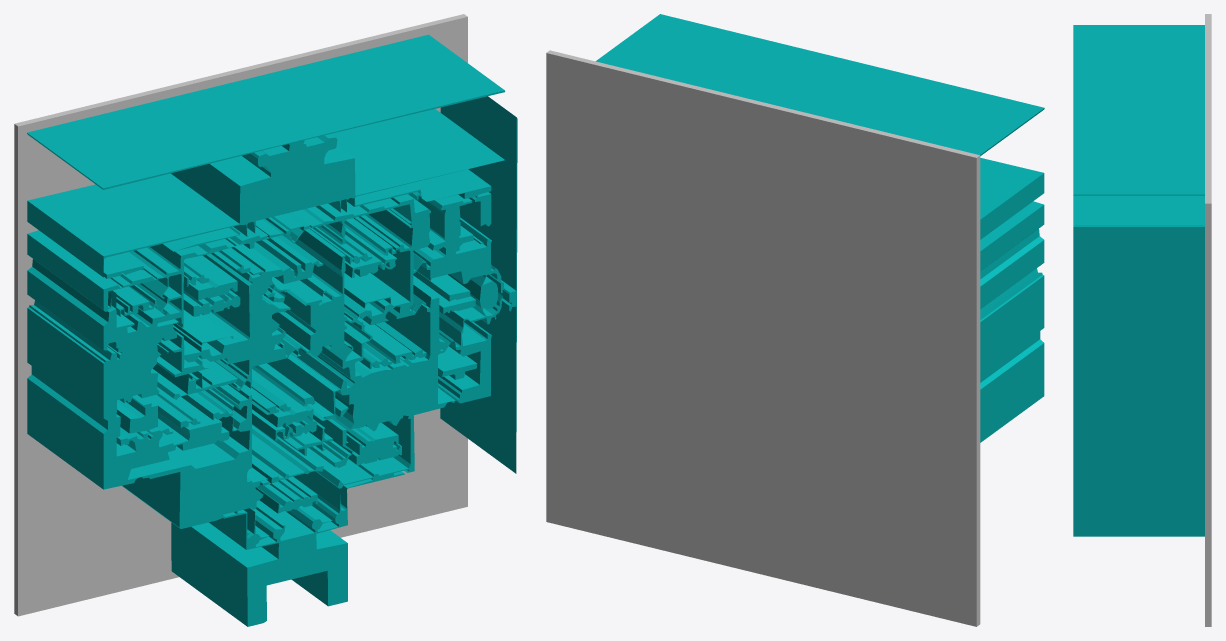
3 renders of one model, left to right at view 1: azimuth 30°, elevation 25°; view 2: azimuth 150°, elevation 25°; view 3: azimuth 270°, elevation 25°, orthographic. The views are drawn at different scales.
Visible parts, largest first — view 1: world; view 2: world; view 3: world.
Boxes of the visible parts, x1,y1,x2,y2 form: world: [14, 14, 517, 626]; world: [546, 14, 1044, 626]; world: [1073, 14, 1211, 626].
Size of the model in its own units: 10.23 by 10.65 by 3.15.
